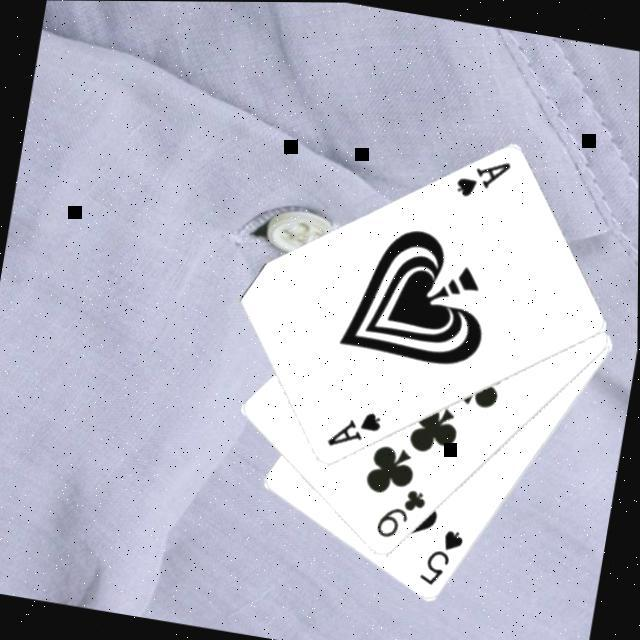5S: (418, 525, 471, 595)
9C: (373, 483, 433, 548)
AS: (452, 153, 516, 209), (325, 405, 388, 459)
